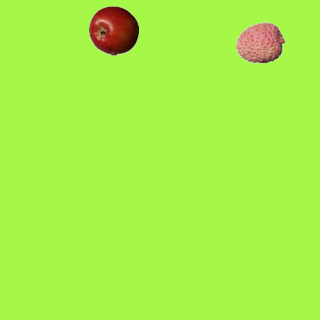Apple Braeburn: (88, 5, 138, 55)
Lychee: (235, 17, 285, 67)
